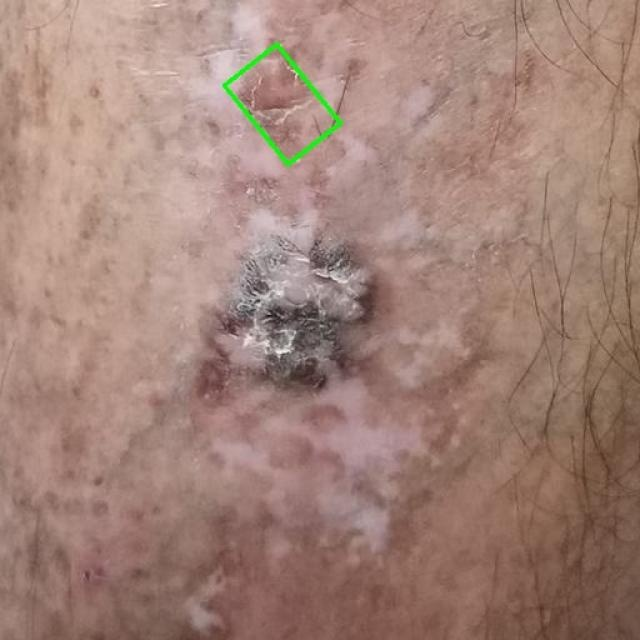Eczema: (225, 44, 340, 165)
